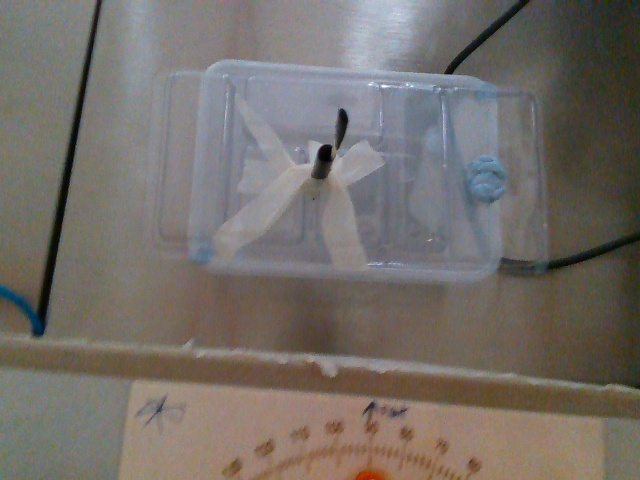test_strip: (328, 105, 348, 162)
